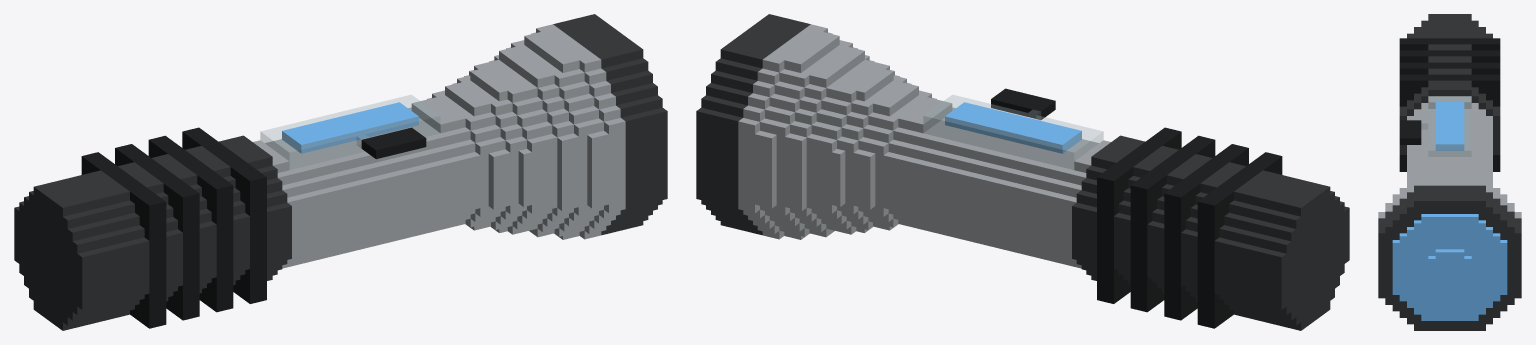
File: pyrokinetic_flashlight.glb
The picture shows the model from 3 angles, left to right: view 1: azimuth 30°, elevation 25°; view 2: azimuth 150°, elevation 25°; view 3: azimuth 270°, elevation 25°; orthographic projection. The views are drawn at different scales.
Parts seen in each view (by area): view 1: pyrokinetic_flashlight:compound; view 2: pyrokinetic_flashlight:compound; view 3: pyrokinetic_flashlight:compound.
Boxes of the visible parts, x1,y1,x2,y2 form: pyrokinetic_flashlight:compound: [14, 14, 667, 330]; pyrokinetic_flashlight:compound: [696, 14, 1349, 330]; pyrokinetic_flashlight:compound: [1378, 14, 1521, 330].
Size of the model in its own units: 0.14 by 0.04 by 0.04.
